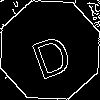D: (25, 25, 75, 80)
